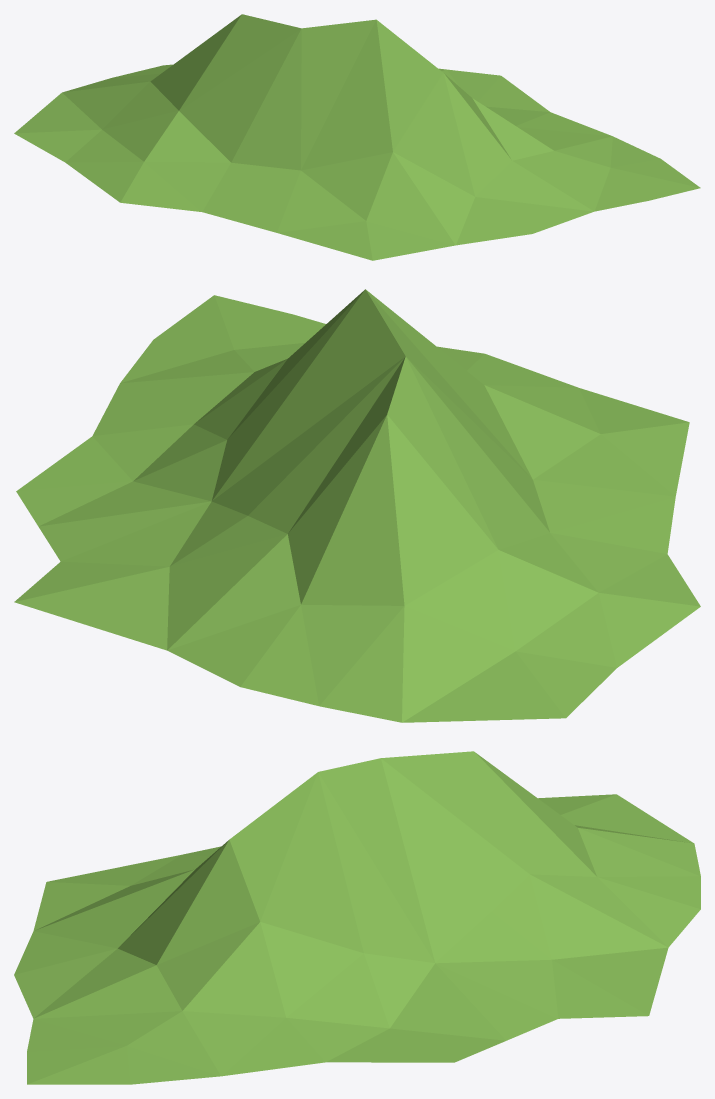
The model's file is MT_Mountain_S_a_16_LOD.fbx.
3 views of the same model, one above another, from view 1: azimuth 30°, elevation 25°; view 2: azimuth 150°, elevation 25°; view 3: azimuth 270°, elevation 25° (orthographic). The views are drawn at different scales.
Parts seen in each view (by area): view 1: MT_Mountain_S_a_16_LOD0; view 2: MT_Mountain_S_a_16_LOD0; view 3: MT_Mountain_S_a_16_LOD0.
Part boxes in pixels (x1=…): MT_Mountain_S_a_16_LOD0: x1=14, y1=14, x2=700, y2=260; MT_Mountain_S_a_16_LOD0: x1=14, y1=289, x2=700, y2=722; MT_Mountain_S_a_16_LOD0: x1=14, y1=751, x2=700, y2=1084.
Size of what is drawn, in the model's own units: 2070 by 594 by 2070.
